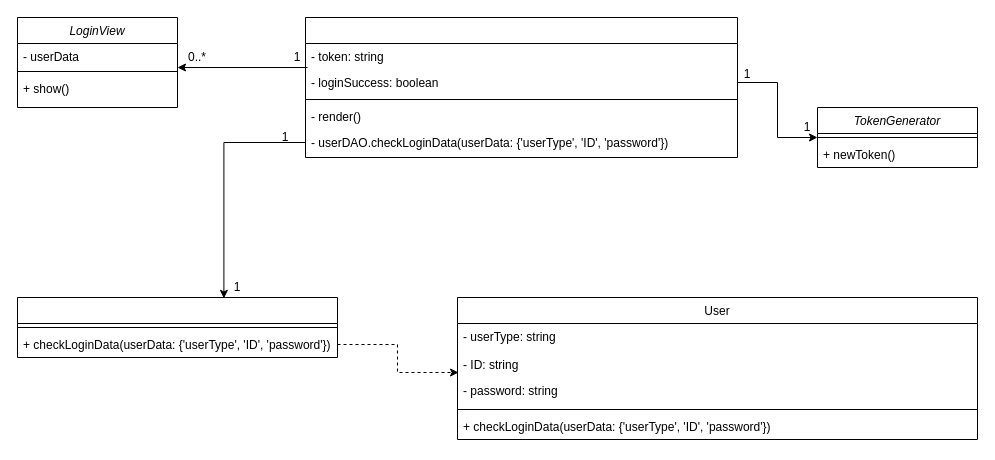
This 995x460 diagram has some shape labels left out. The shapes that lost their labels are listed below. From the top down, each one's box as (x1, y1, x2, y2) in pixels, then its label:
(304, 16, 738, 158): Controller
(16, 296, 338, 358): userDAO
